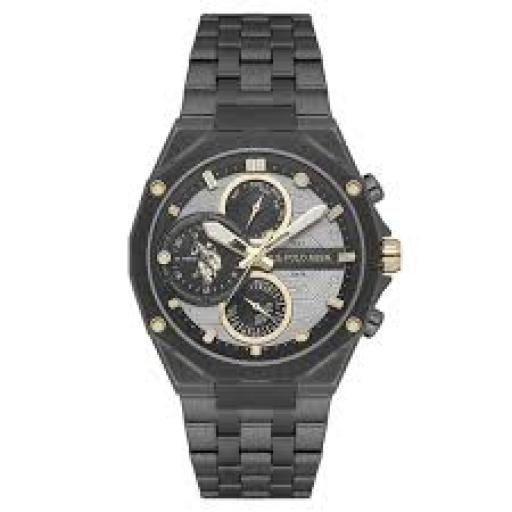KolSaati: (100, 4, 406, 508)
